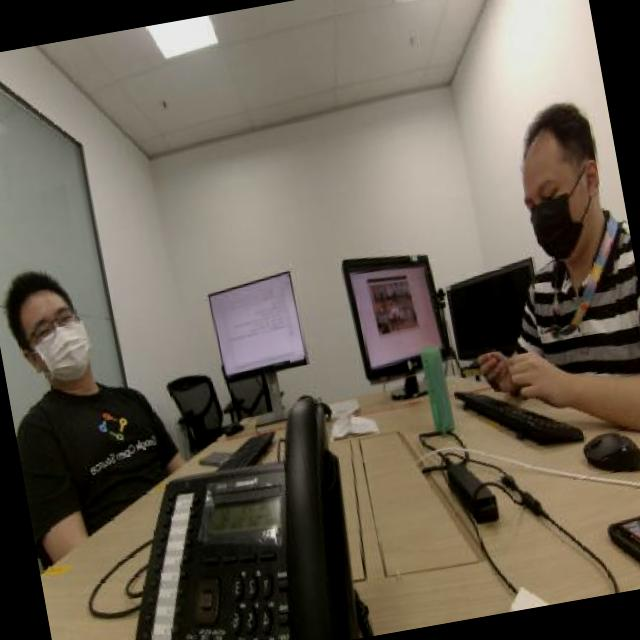Person: (443, 68, 640, 397), (0, 233, 175, 511)
